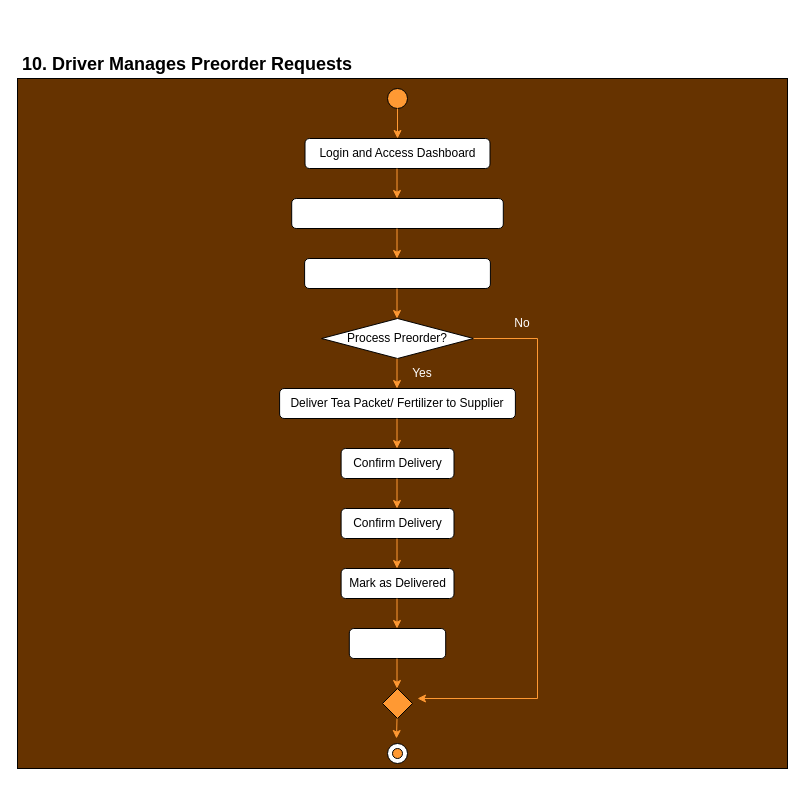
Image size: 805x786. Some labels were removed from this diagram. The centre of each missing label's shape, as x and y in pixels:
"Notify Supplier" belongs at (397,643).
"Select Supplier's Preorder Request" belongs at (397,213).
"View Supplier Preorder Details" belongs at (397,273).
